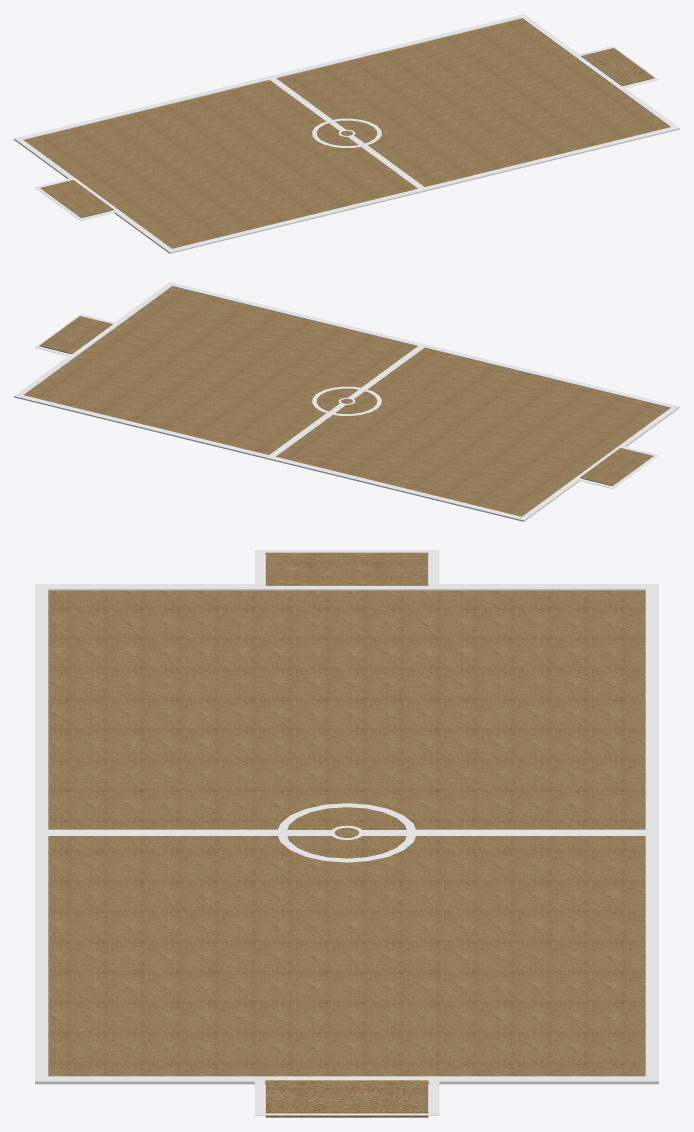
The model's file is Stadium.obj.
3 views of the same model, one above another, from view 1: azimuth 30°, elevation 25°; view 2: azimuth 150°, elevation 25°; view 3: azimuth 270°, elevation 25° (orthographic). The views are drawn at different scales.
Parts seen in each view (by area): view 1: Stadium; view 2: Stadium; view 3: Stadium.
Part boxes in pixels (box(x1,y1,x2,y2)): Stadium: box(14, 14, 679, 253); Stadium: box(14, 282, 679, 521); Stadium: box(35, 550, 658, 1117).
Size of the model in its own units: 24.43 by 0.1 by 11.4.
2 materials, 1 textured.
